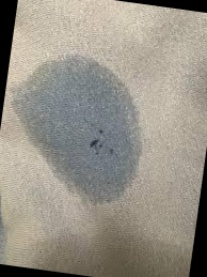ink: (25, 50, 152, 200)
